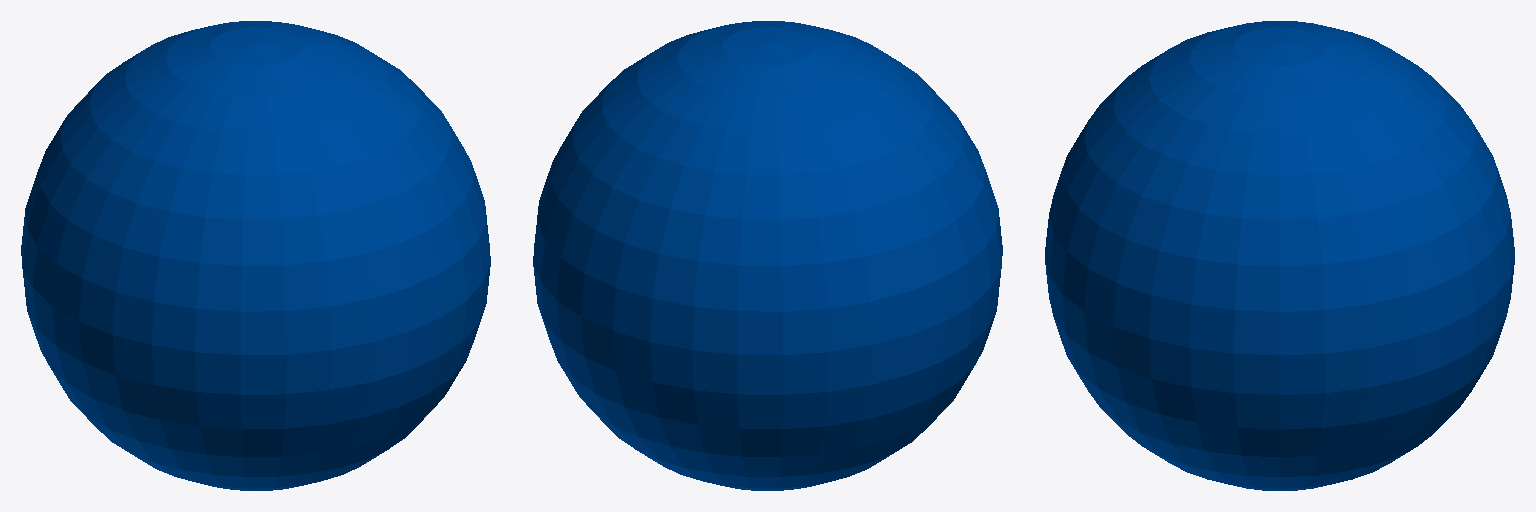
Rendered from controlPoint.obj.
3 renders of one model, left to right at view 1: azimuth 30°, elevation 25°; view 2: azimuth 150°, elevation 25°; view 3: azimuth 270°, elevation 25°, orthographic.
Parts seen in each view (by area): view 1: Sphere; view 2: Sphere; view 3: Sphere.
Boxes of the visible parts, box(x1,y1,x2,y2) form: Sphere: box(21, 21, 490, 490); Sphere: box(533, 21, 1002, 490); Sphere: box(1045, 21, 1514, 490).
Size of the model in its own units: 10 by 10 by 10.